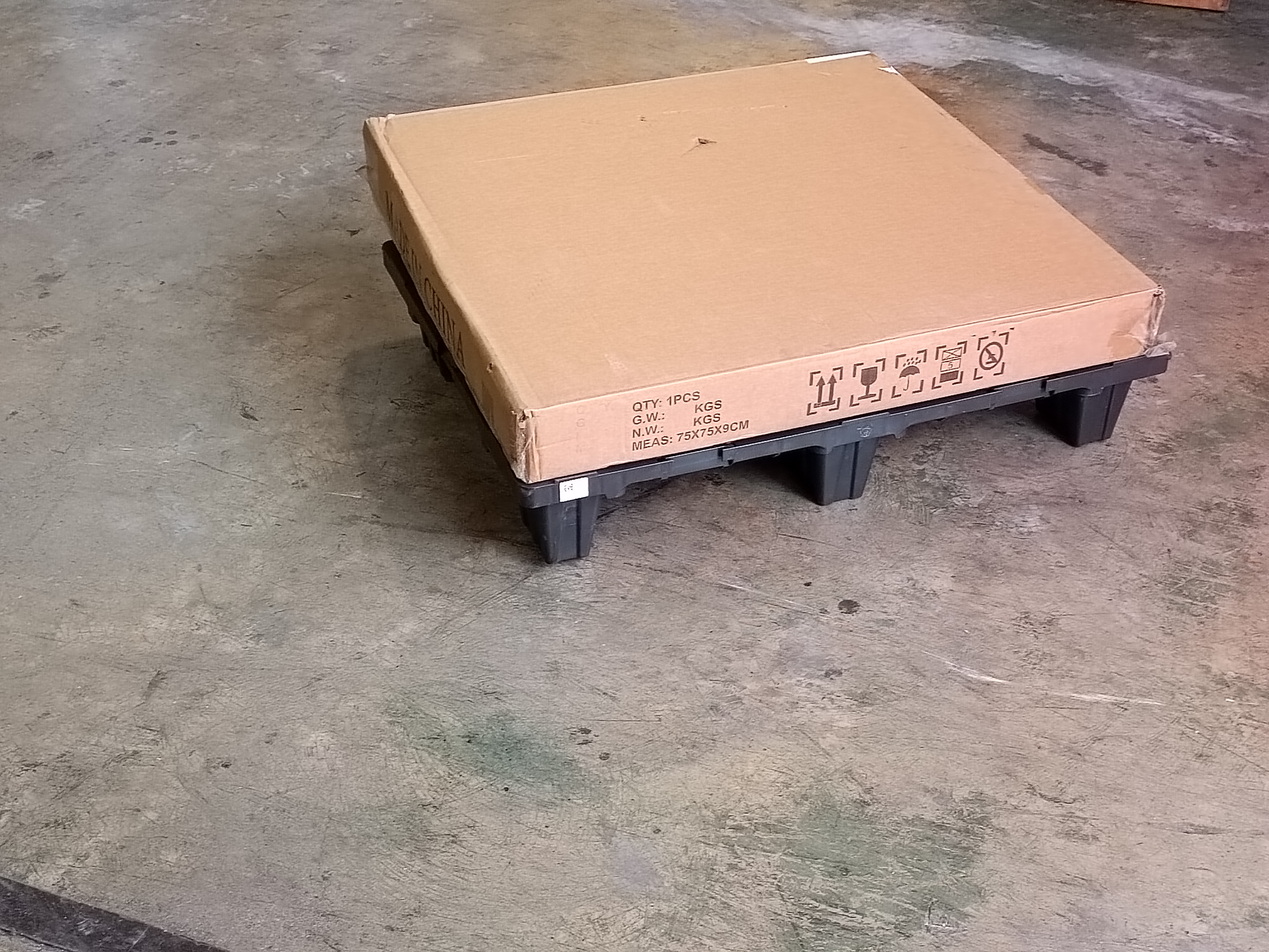block: (529, 477, 615, 561), (817, 416, 890, 501), (1076, 358, 1142, 445)
front: (527, 355, 1171, 565)
hole pallet: (593, 452, 824, 554), (866, 395, 1086, 492)
